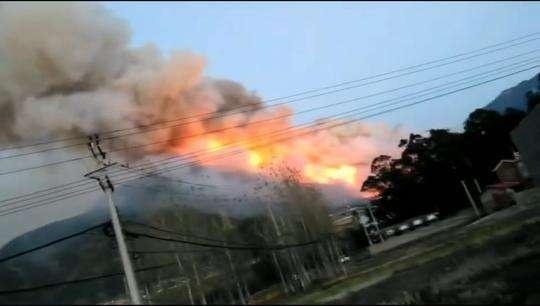fire: (183, 113, 376, 186)
